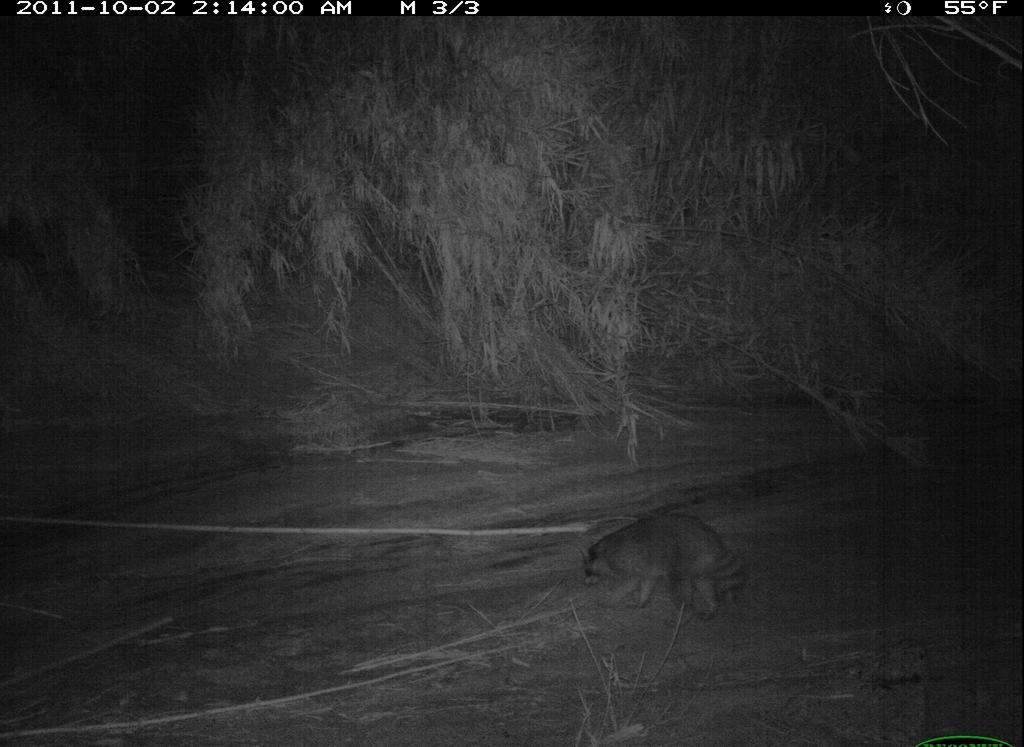raccoon: (580, 512, 750, 624)
